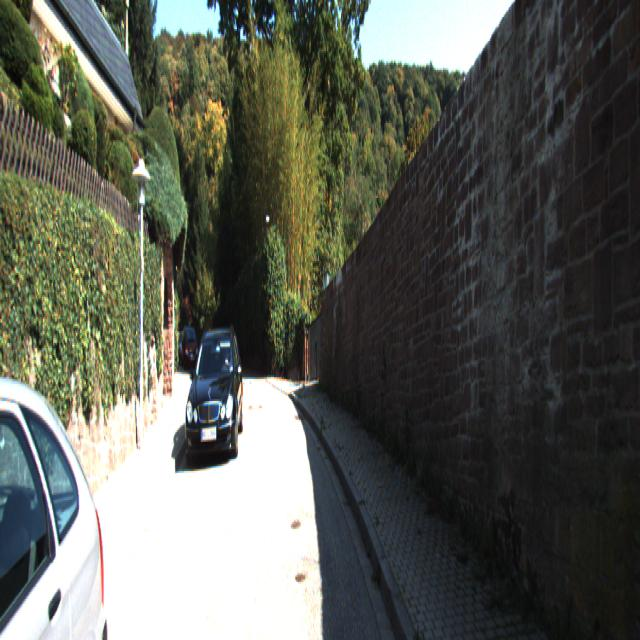Car: (0, 331, 117, 639), (184, 323, 244, 472), (181, 321, 199, 368)
